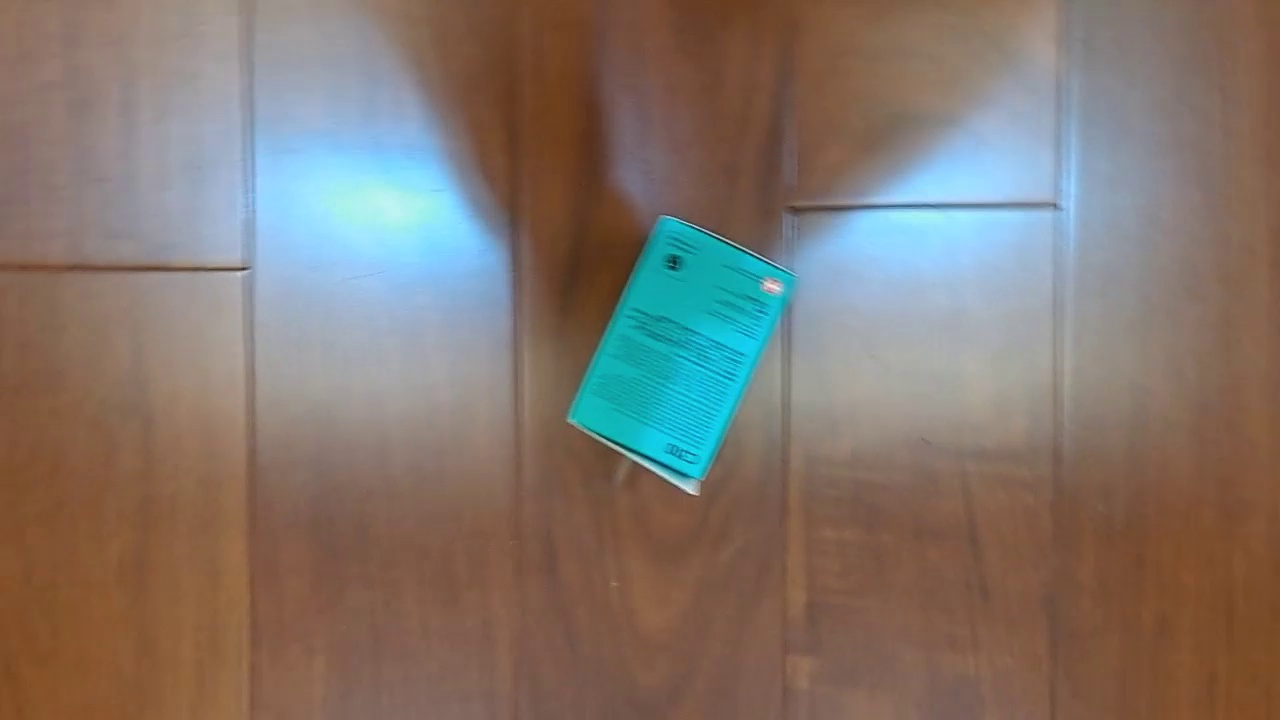webcam: (565, 213, 800, 498)
